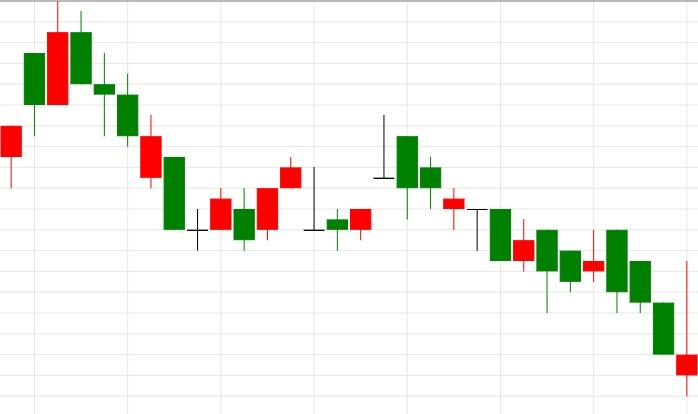morning_star_rise: (47, 0, 233, 250)
three_black_crows_fall: (0, 0, 139, 188)
